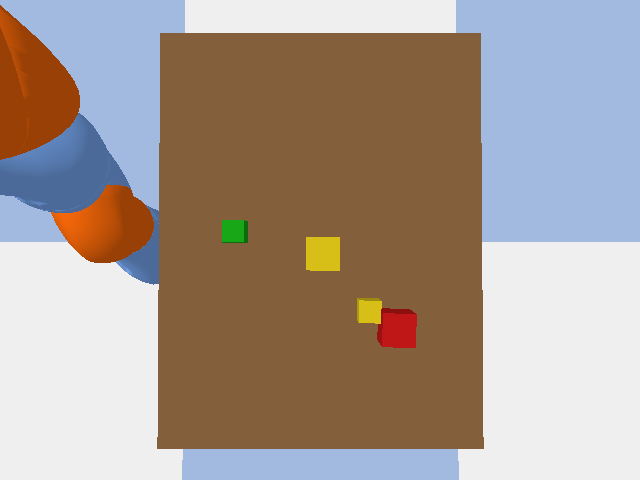green_obj: (222, 220, 247, 242)
red_obj: (377, 308, 416, 347)
yellow_obj: (306, 237, 339, 270), (357, 298, 381, 323)
